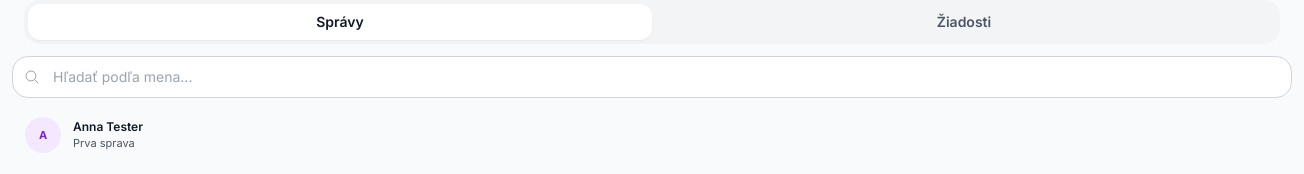
ConversationsList › shows a search-specific empty state when no conversation matches the query
expect the text "Prva sprava" is shown: met, box [73,136,135,150]
Type "Neexistuje" into the field labelled "Hľadať podľa mena..." at (652, 77), box [12,56,1292,98]
Wait 300 ms
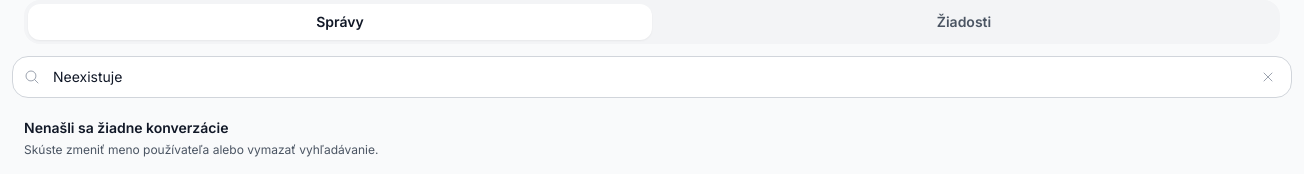
expect the text "Nenašli sa žiadne konverzácie" is shown: met, box [24,119,228,136]
expect the text "Skúste zmeniť meno používateľa alebo vymazať vyhľadávanie." is shown: met, box [24,142,378,157]
